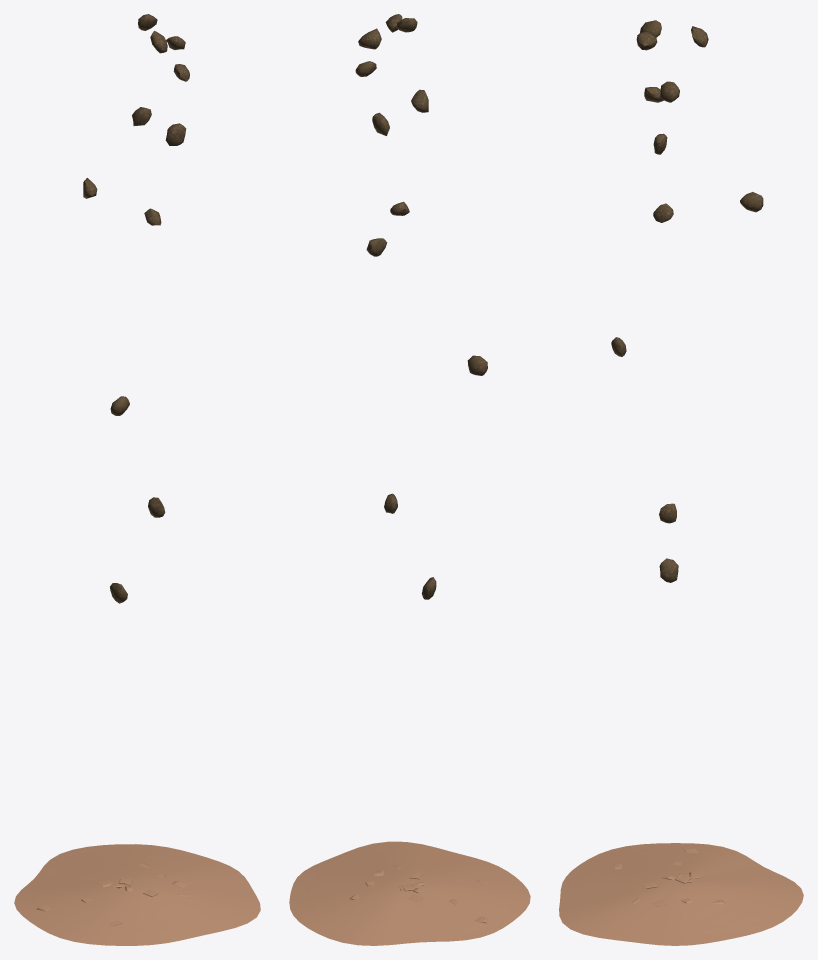
File: TER-SOL-002_anim.glb
3 renders of one model, left to right at view 1: azimuth 30°, elevation 25°; view 2: azimuth 150°, elevation 25°; view 3: azimuth 270°, elevation 25°, orthographic.
Parts seen in each view (by area): view 1: TER-SOL-002_anim_monte; view 2: TER-SOL-002_anim_monte; view 3: TER-SOL-002_anim_monte.
Part boxes in pixels (bbox=[...]): TER-SOL-002_anim_monte: bbox=[14, 844, 260, 945]; TER-SOL-002_anim_monte: bbox=[289, 841, 530, 945]; TER-SOL-002_anim_monte: bbox=[559, 843, 803, 945].
Size of the model in its own units: 0.4243 by 1.69 by 0.4265.
Materials: 2 (1 with a texture image).
